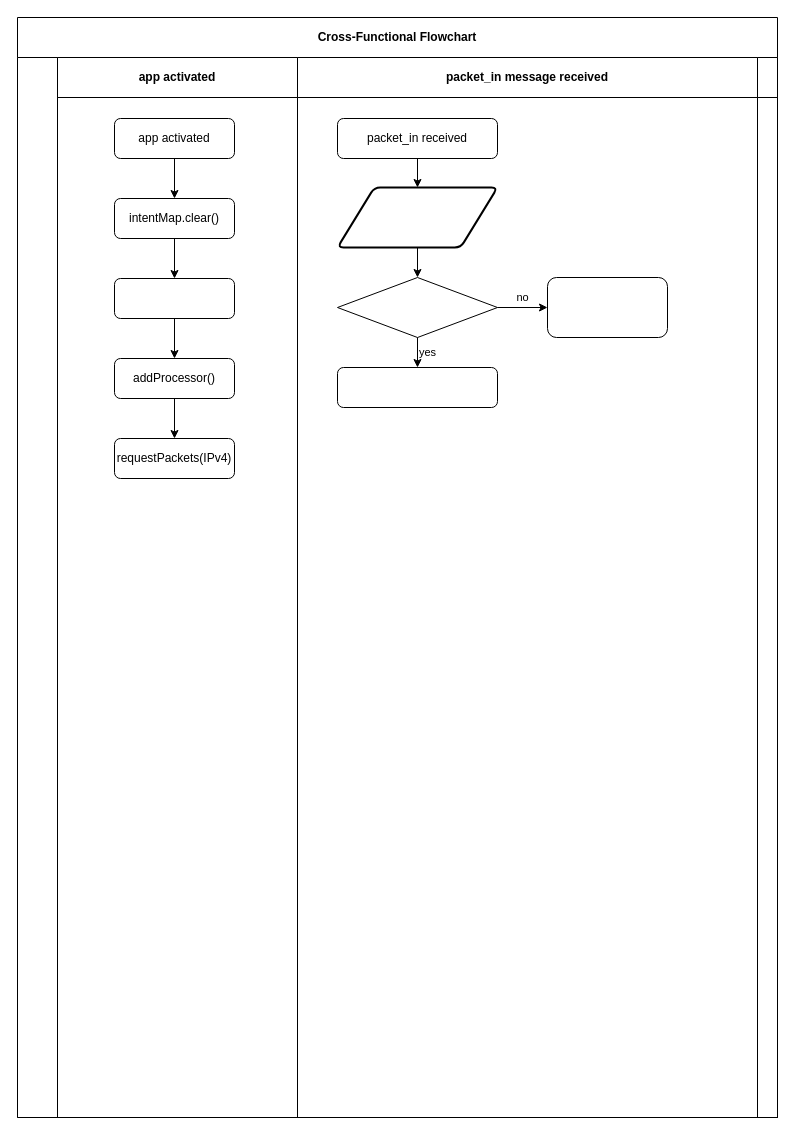
The diagram is 795 pixels wide and 1135 high, and some of its shapes have lost their labels. Each missing label, with the centre of its shape:
context.block(): the point at 607,307
intentMap.containsKey() : by src/dst Ip Address: the point at 417,307
paths = getLoadBalancePaths() : get Paths by src/dst mac: the point at 417,217
registerApplication(): the point at 174,298
